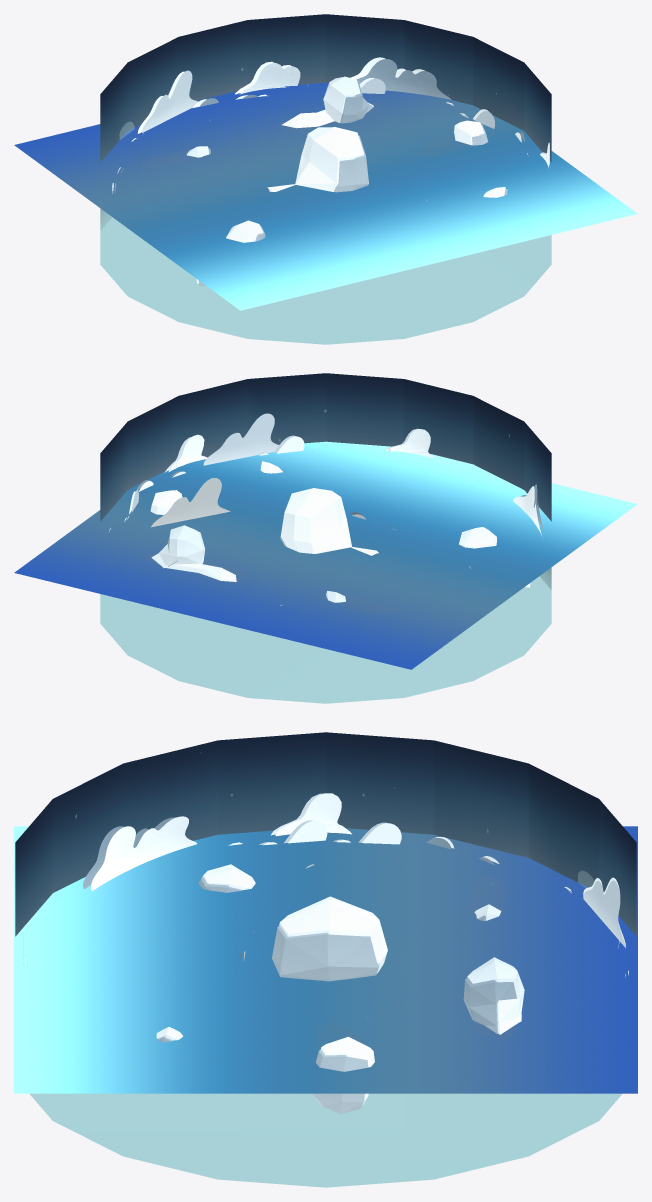
File: cielo_opt.glb
3 views of the same model, one above another, from view 1: azimuth 30°, elevation 25°; view 2: azimuth 150°, elevation 25°; view 3: azimuth 270°, elevation 25° (orthographic). The views are drawn at different scales.
Parts seen in each view (by area): view 1: Object_3, Object_12, Object_11, Object_5, Object_10; view 2: Object_3, Object_12, Object_11, Object_5, Object_4, Object_10; view 3: Object_3, Object_12, Object_11, Object_5, Object_10.
Boxes of the visible parts, x1,y1,x2,y2 form: Object_3: [14, 82, 637, 310]; Object_12: [100, 14, 551, 344]; Object_11: [186, 76, 507, 285]; Object_5: [112, 57, 549, 193]; Object_10: [142, 103, 470, 169]; Object_3: [14, 441, 637, 669]; Object_12: [100, 373, 551, 703]; Object_11: [150, 461, 530, 602]; Object_5: [109, 413, 544, 605]; Object_4: [151, 478, 470, 568]; Object_10: [142, 513, 397, 613]; Object_3: [14, 826, 637, 1093]; Object_12: [15, 732, 636, 1187]; Object_11: [156, 864, 524, 1113]; Object_5: [23, 793, 628, 977]; Object_10: [317, 874, 523, 1049].
Bounding box in the file's own units: 2170355 × 818146 × 2142271.
9 materials, 9 textured.
